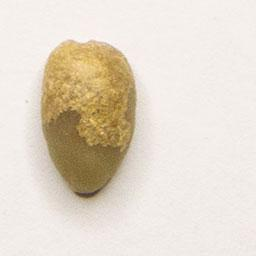longberry: (37, 33, 139, 201)
